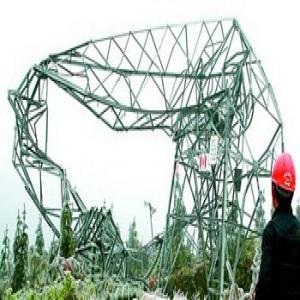red: (270, 151, 298, 210)
